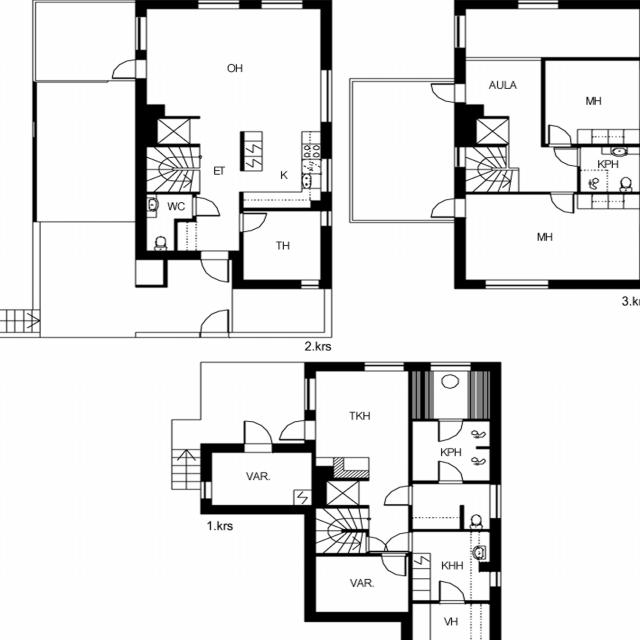door: (201, 250, 228, 282), (200, 310, 228, 338), (222, 385, 248, 413), (431, 84, 466, 102), (112, 60, 146, 78), (432, 199, 466, 217), (255, 384, 288, 402), (238, 214, 266, 232), (550, 192, 574, 213), (402, 531, 424, 553), (348, 506, 370, 527), (549, 126, 571, 147), (351, 444, 376, 462), (192, 198, 218, 215), (555, 149, 581, 166), (351, 487, 376, 504), (401, 422, 422, 442), (401, 382, 422, 402), (334, 491, 353, 504)
